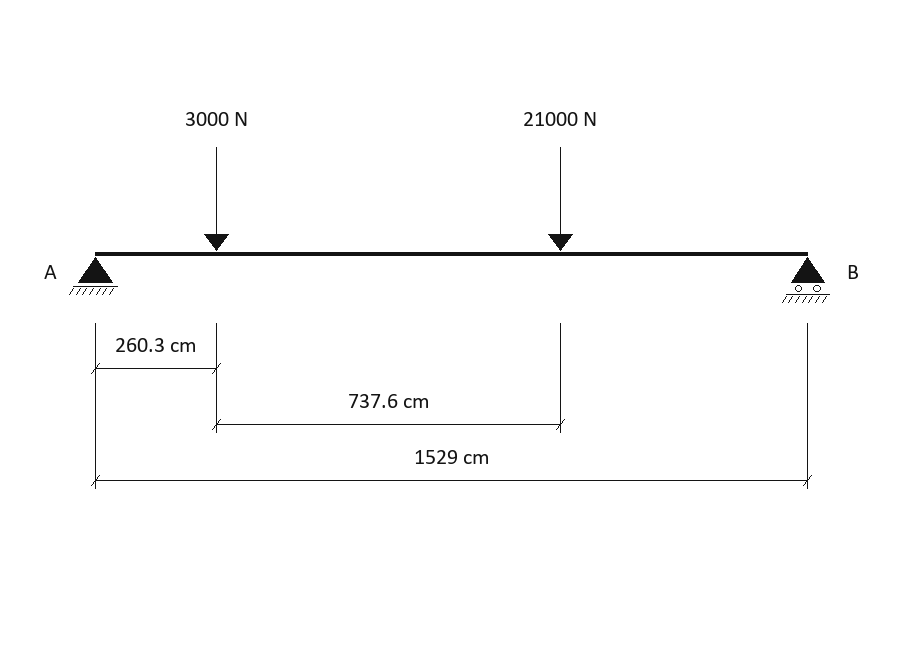pin_support: (69, 257, 118, 295)
point_load: (204, 147, 229, 251), (548, 147, 573, 251)
roller_support: (782, 257, 830, 303)
